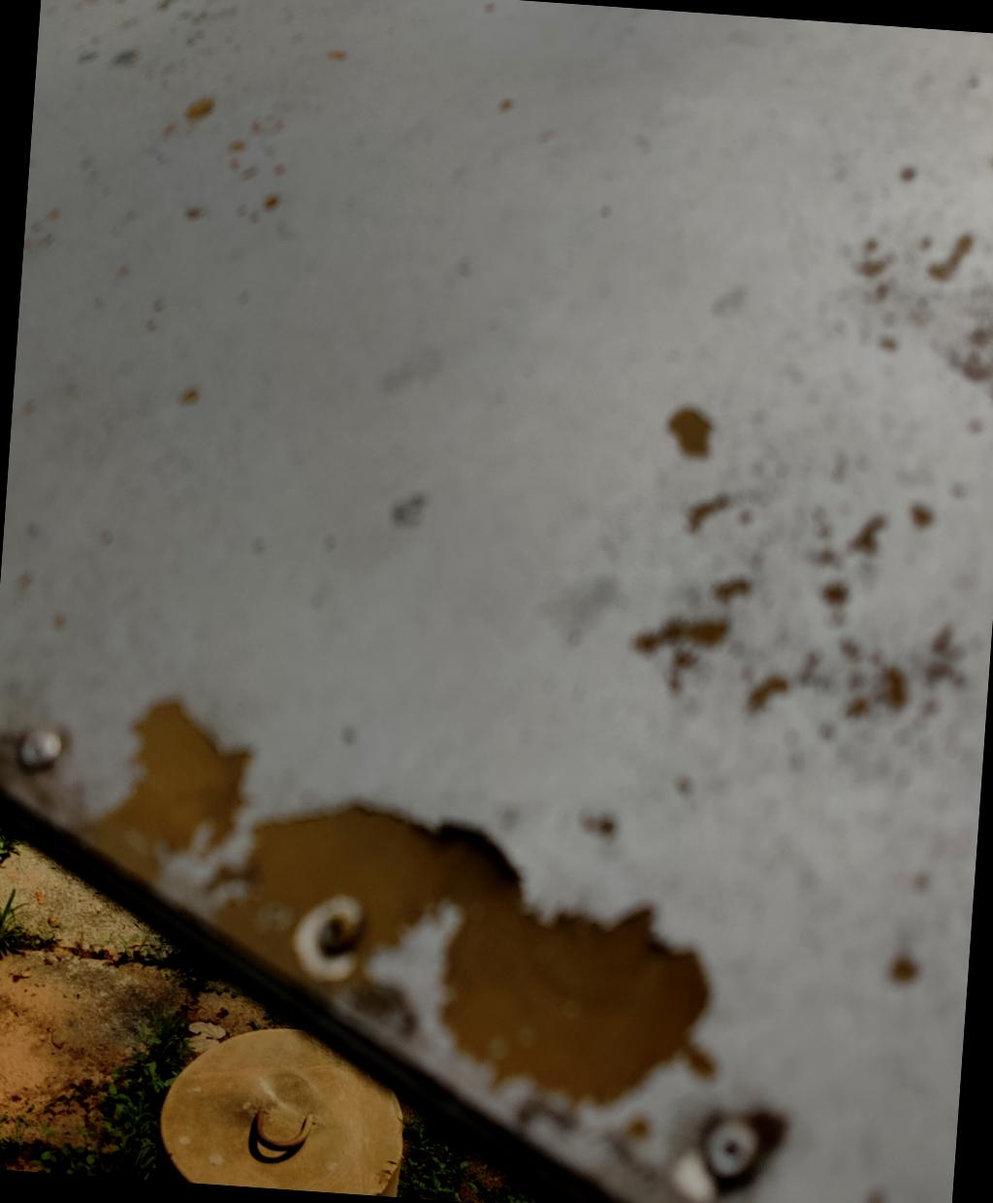corrosion: (53, 683, 733, 1138)
